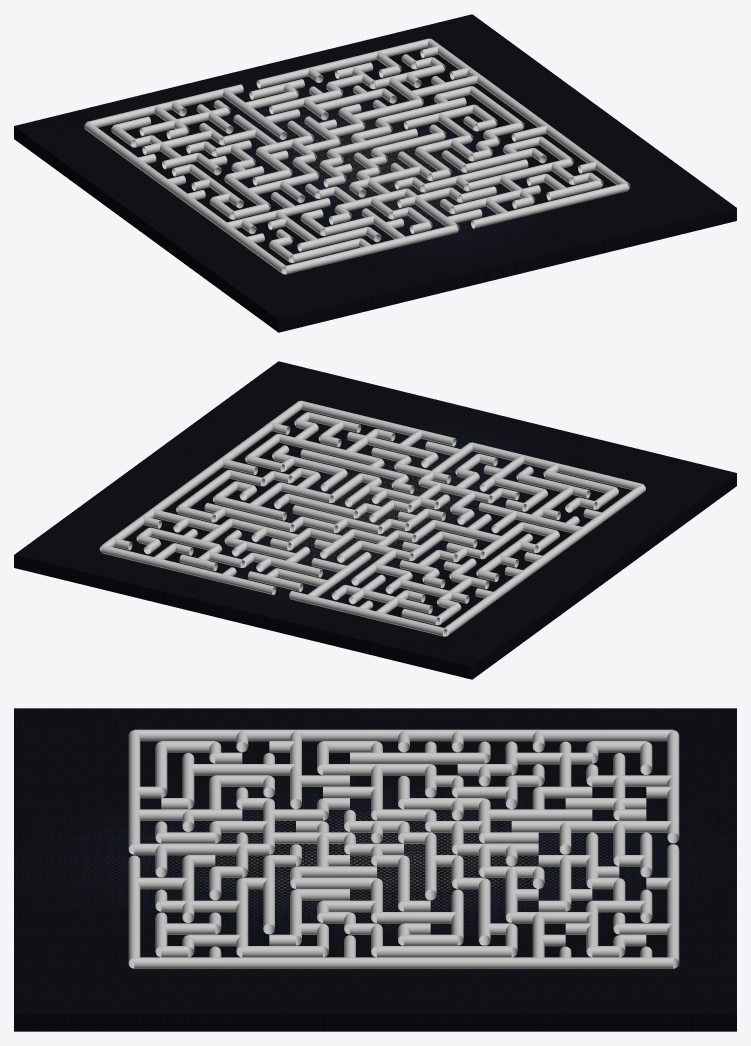
The model's file is pipes.obj.
The picture shows the model from 3 angles, top to bottom: view 1: azimuth 30°, elevation 25°; view 2: azimuth 150°, elevation 25°; view 3: azimuth 270°, elevation 25°; orthographic projection. The views are drawn at different scales.
Parts seen in each view (by area): view 1: Plane, Curve.150; view 2: Plane, Curve.150; view 3: Plane, Curve.150.
Boxes of the visible parts, left/top/right/bottom form: Plane: left=14, top=14, right=736, bottom=332; Curve.150: left=84, top=38, right=630, bottom=274; Plane: left=14, top=361, right=736, bottom=679; Curve.150: left=99, top=400, right=645, bottom=636; Plane: left=14, top=708, right=736, bottom=1031; Curve.150: left=128, top=729, right=679, bottom=968.
Bounding box in the file's own units: 8.71 × 0.3924 × 8.71.
